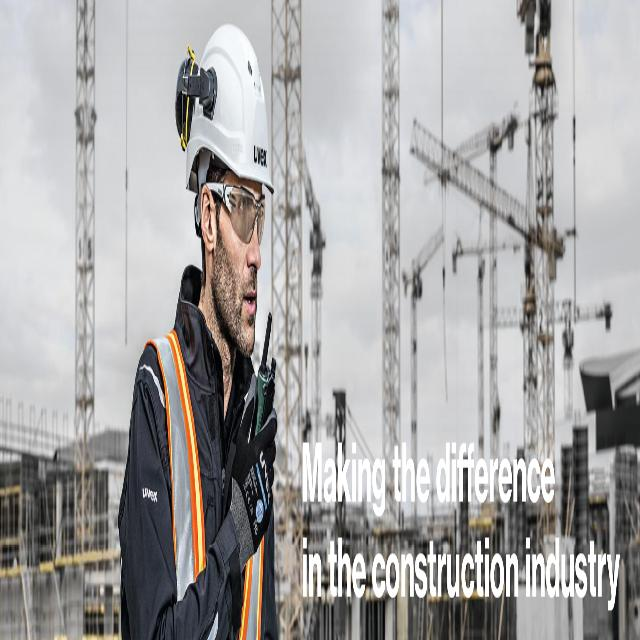Gloves: (231, 373, 279, 584)
Helmet: (173, 9, 295, 195)
Protective Glasses: (191, 179, 270, 249)
Vest: (138, 306, 282, 640)
